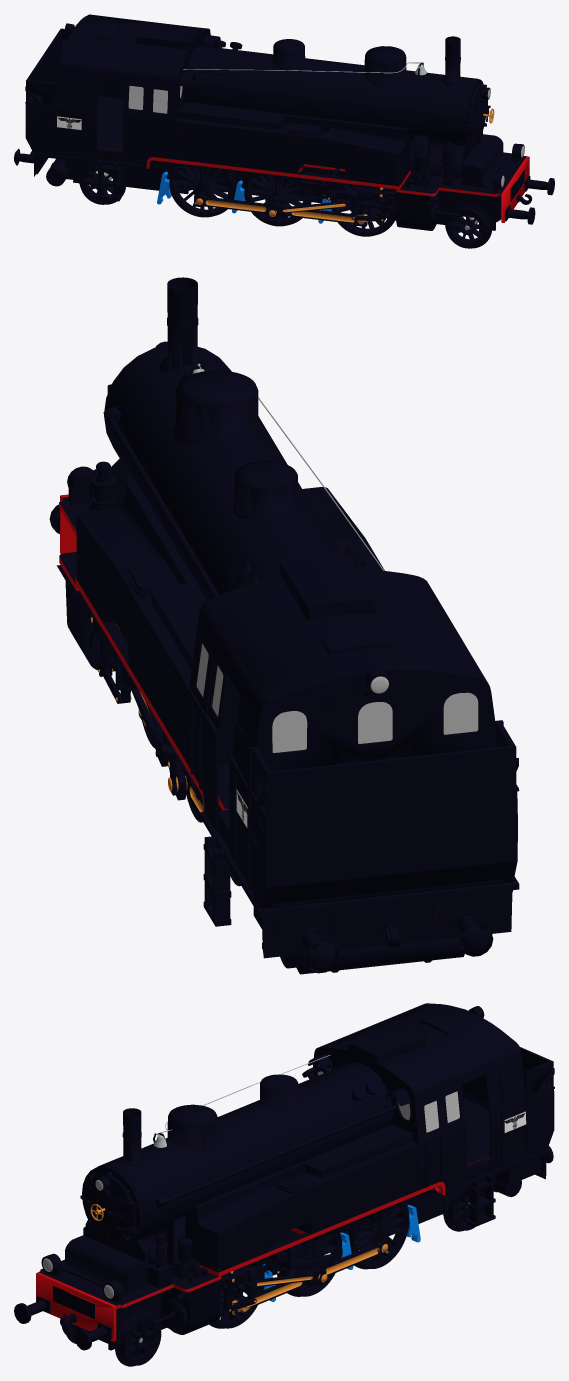
File: train.glb
3 renders of one model, top to bottom at view 1: azimuth 30°, elevation 25°; view 2: azimuth 150°, elevation 25°; view 3: azimuth 270°, elevation 25°, orthographic. The views are drawn at different scales.
Parts seen in each view (by area): view 1: vlc75TUB, vlc75CAB, vlc75BAS, vlc75TU2, vlc75BA1, vlc75R09, vlc75M07, vlc75R10, vlc75R07, vlc75M36, vlc75R08, vlc75CA3 (+9 smaller); view 2: vlc75CAB, vlc75TUB, vlc75CA2, vlc75BAS, vlc75TU2, vlc75CRc, vlc75BA1, vlc75BID, vlc75M30, vlc75TU1, vlc75CA3, vlc75D6; view 3: vlc75TUB, vlc75CAB, vlc75BAS, vlc75TU2, vlc75BA1, vlc75M30, vlc75R02, vlc75R04, vlc75R01, vlc75M01, vlc75TU1, vlc75R05 (+7 smaller).
Boxes of the visible parts, x1,y1,x2,y2 form: vlc75TUB: [177, 36, 490, 185]; vlc75CAB: [25, 14, 220, 176]; vlc75BAS: [14, 132, 554, 232]; vlc75TU2: [176, 121, 398, 185]; vlc75BA1: [96, 96, 529, 222]; vlc75R09: [169, 163, 236, 217]; vlc75M07: [323, 189, 441, 230]; vlc75R10: [243, 172, 311, 226]; vlc75R07: [445, 203, 492, 248]; vlc75M36: [194, 194, 367, 226]; vlc75R08: [330, 175, 395, 236]; vlc75CA3: [25, 85, 174, 159]; vlc75CAB: [188, 553, 519, 957]; vlc75TUB: [77, 277, 384, 688]; vlc75CA2: [259, 747, 519, 958]; vlc75BAS: [49, 458, 503, 973]; vlc75TU2: [76, 515, 188, 765]; vlc75CRc: [196, 643, 478, 752]; vlc75BA1: [59, 494, 229, 811]; vlc75BID: [294, 937, 464, 974]; vlc75M30: [56, 565, 115, 671]; vlc75TU1: [106, 416, 219, 597]; vlc75CA3: [188, 689, 264, 889]; vlc75D6: [85, 461, 117, 511]; vlc75TUB: [80, 1061, 417, 1271]; vlc75CAB: [308, 1003, 554, 1194]; vlc75BAS: [14, 1146, 553, 1350]; vlc75TU2: [218, 1144, 418, 1271]; vlc75BA1: [36, 1099, 489, 1341]; vlc75M30: [161, 1261, 280, 1334]; vlc75R02: [344, 1201, 409, 1269]; vlc75R04: [115, 1310, 161, 1366]; vlc75R01: [277, 1228, 342, 1296]; vlc75M01: [232, 1238, 389, 1315]; vlc75TU1: [166, 1104, 396, 1203]; vlc75R05: [443, 1187, 484, 1231].
Bounding box in the file's own units: 82.13 × 39.72 × 83.59.
Materials: 93 (93 with a texture image).
